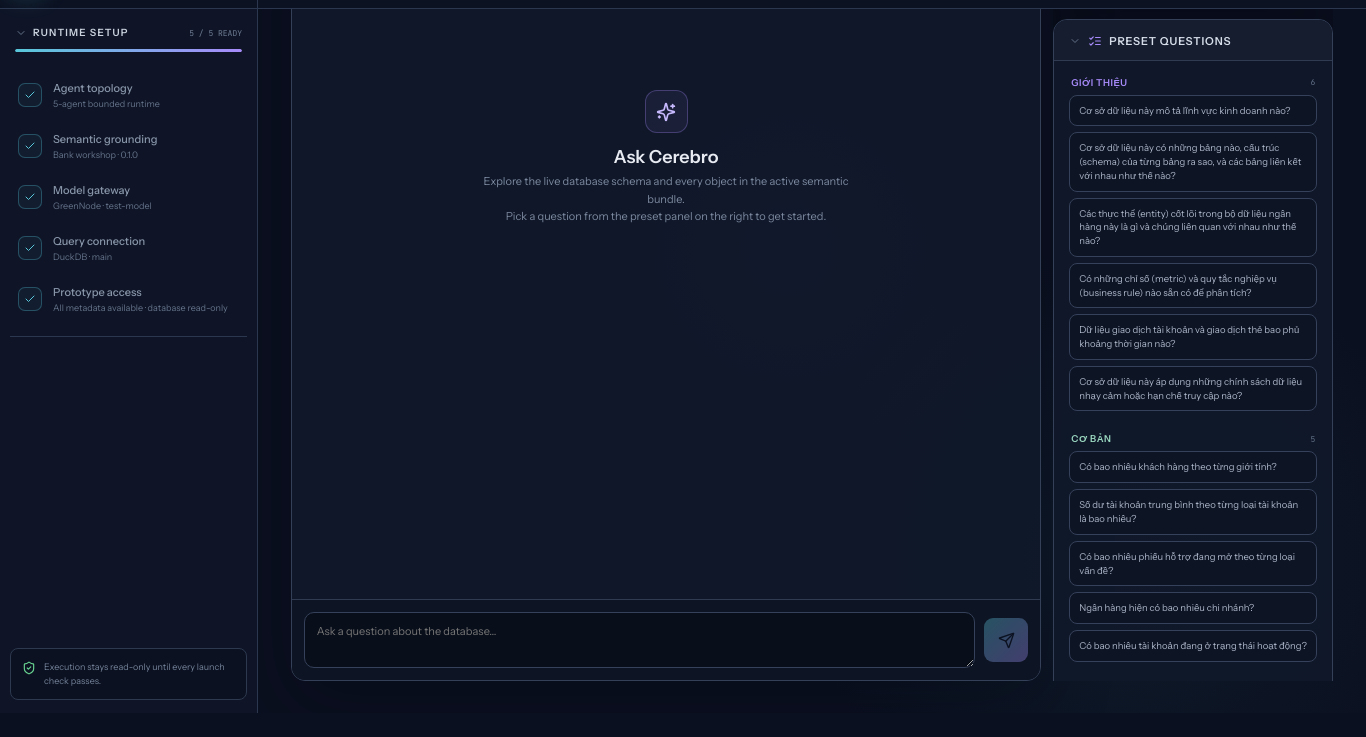
Test case: workspace navigation › stops the active query and ignores a late response
(page scrolled)
Type "Long-running question" into the text box named "Ask about the database".
click(640, 640); type("Long-running question")  # box [304,612,975,668]
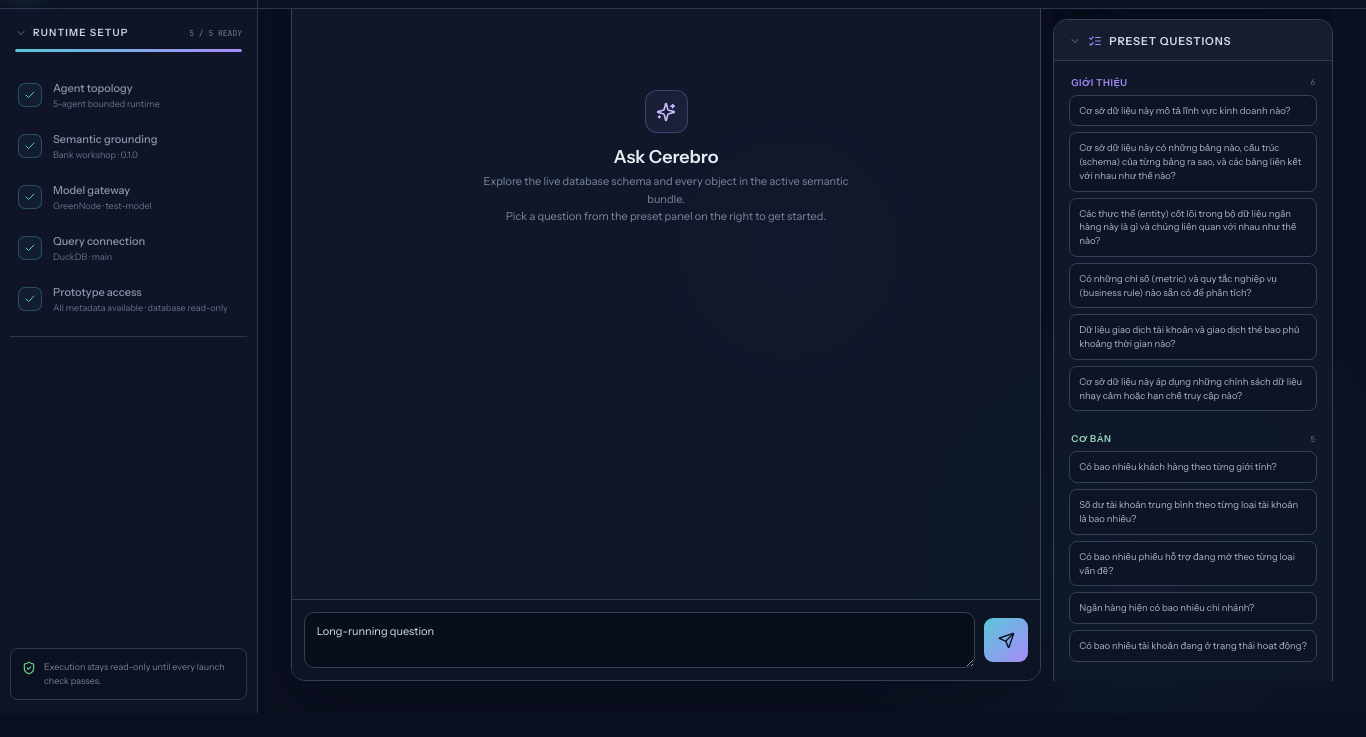
Click the button named "Send question".
click(1006, 640)  # box [984,618,1028,662]
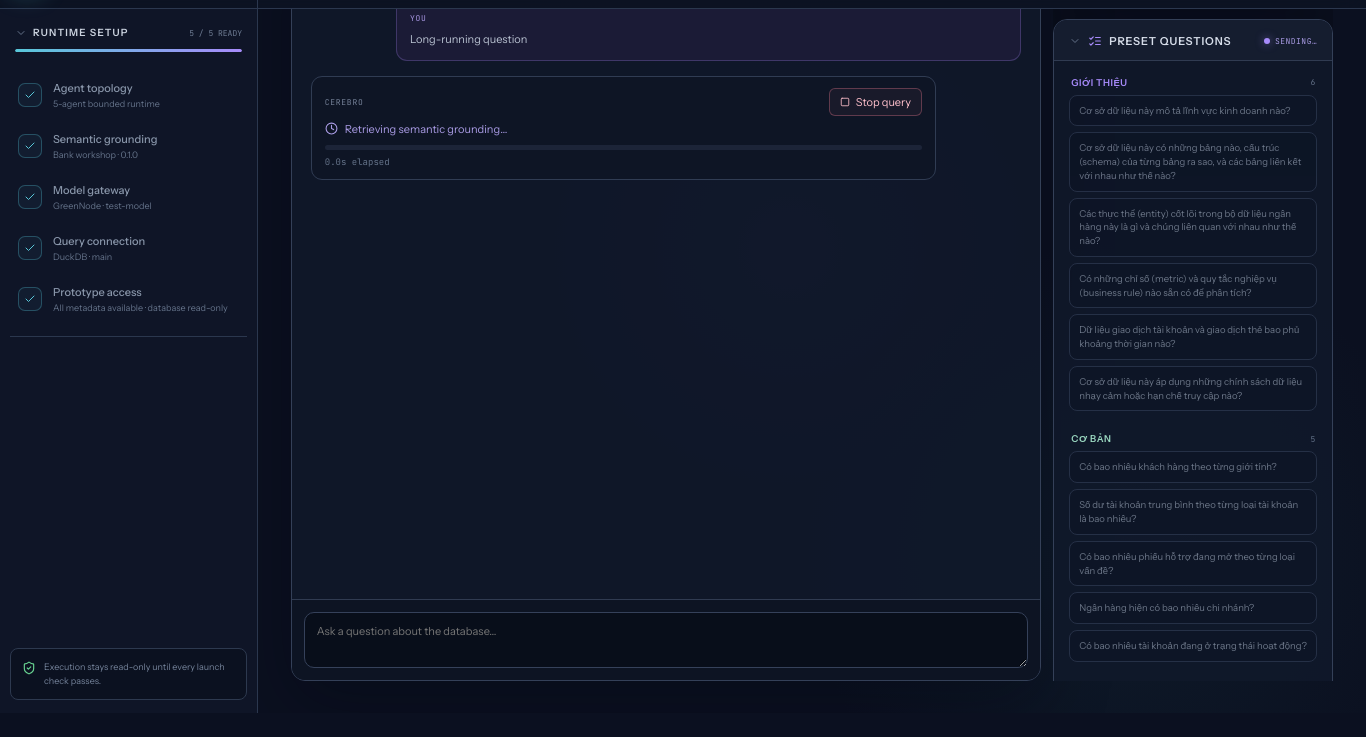
Click the button "Stop query".
click(875, 102)  # box [829,88,922,116]
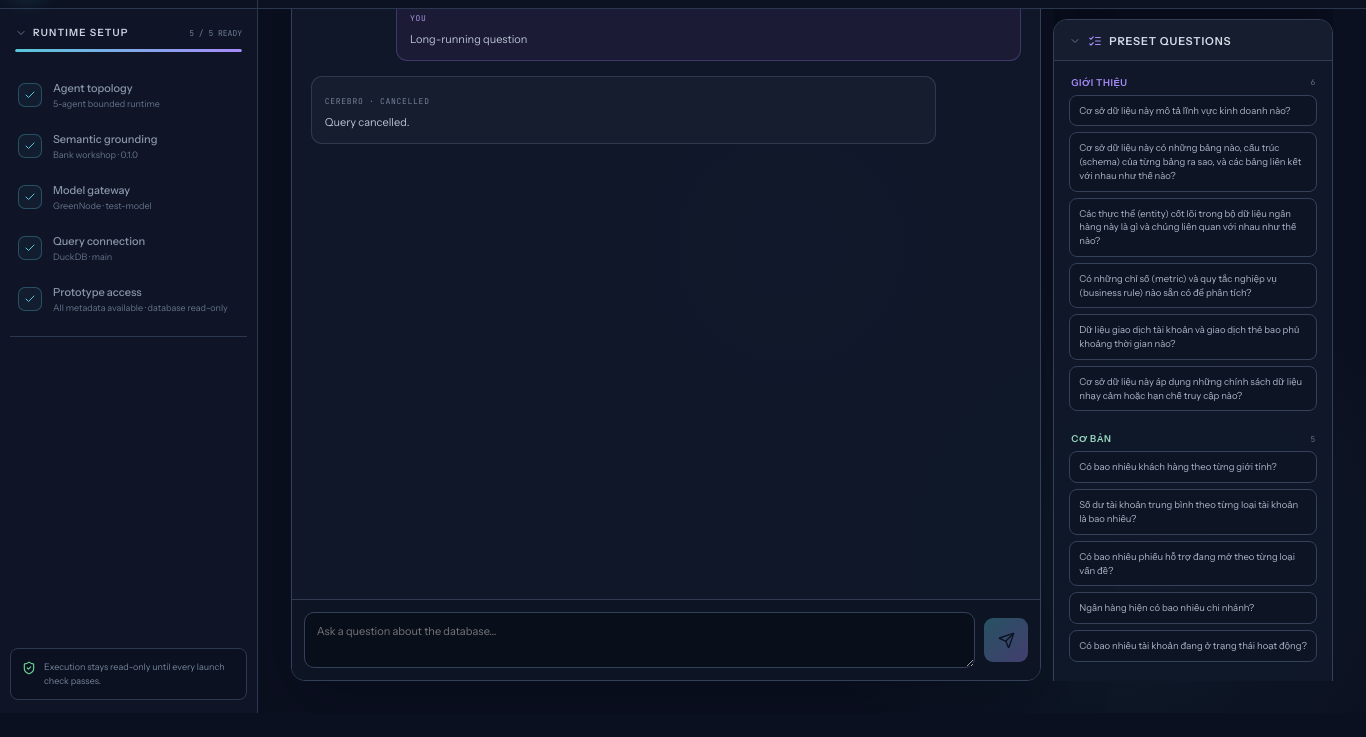
Expected: the text "Query cancelled." is shown, [325,115,410,129]
Expected: the button "Stop query" is gone
Expected: the button "Có bao nhiêu khách hàng theo từng giới tính?" is enabled, [1069,452,1317,483]
